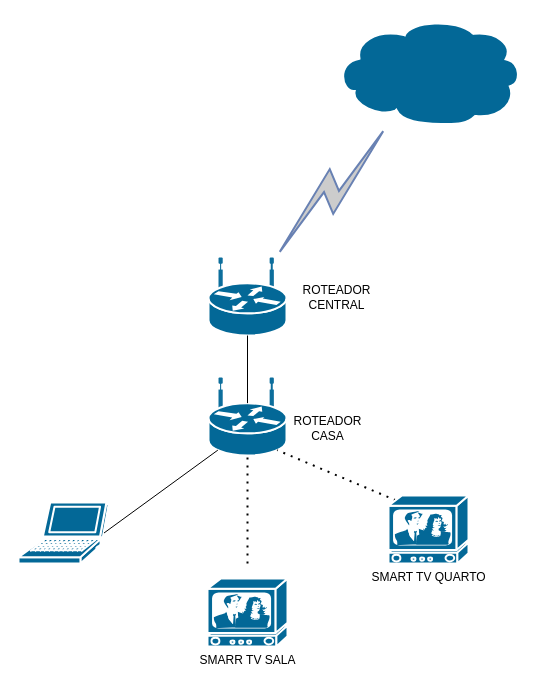
Image size: 539x684. Some labels were removed from this diagram. The centre of each missing label's shape, as x and y in pixels:
INTERNET: point 428,71
PC CASA: point 63,532
